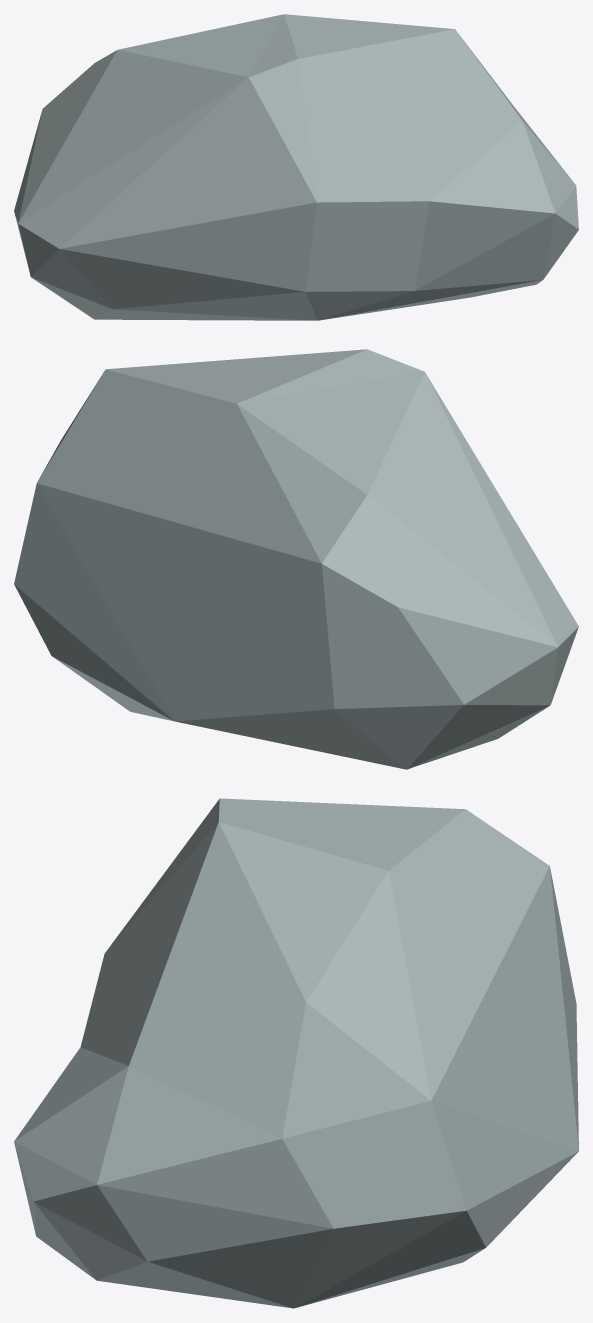
Rendered from Stone_S.fbx.
The picture shows the model from 3 angles, top to bottom: view 1: azimuth 30°, elevation 25°; view 2: azimuth 150°, elevation 25°; view 3: azimuth 270°, elevation 25°; orthographic projection. The views are drawn at different scales.
Visible parts, largest first — view 1: Stone_S; view 2: Stone_S; view 3: Stone_S.
Boxes of the visible parts, <box> form: Stone_S: <box>14,14,578,320</box>; Stone_S: <box>14,349,578,769</box>; Stone_S: <box>14,798,578,1308</box>.
Bounding box in the file's own units: 21.12 × 11.61 × 16.22.
